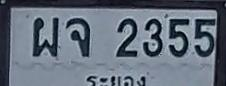2: (116, 18, 137, 57)
3: (142, 18, 162, 57)
5: (168, 18, 190, 57), (194, 18, 215, 57)
A08: (66, 18, 90, 56)
A28: (32, 17, 58, 57)
RYG: (84, 71, 150, 86)
